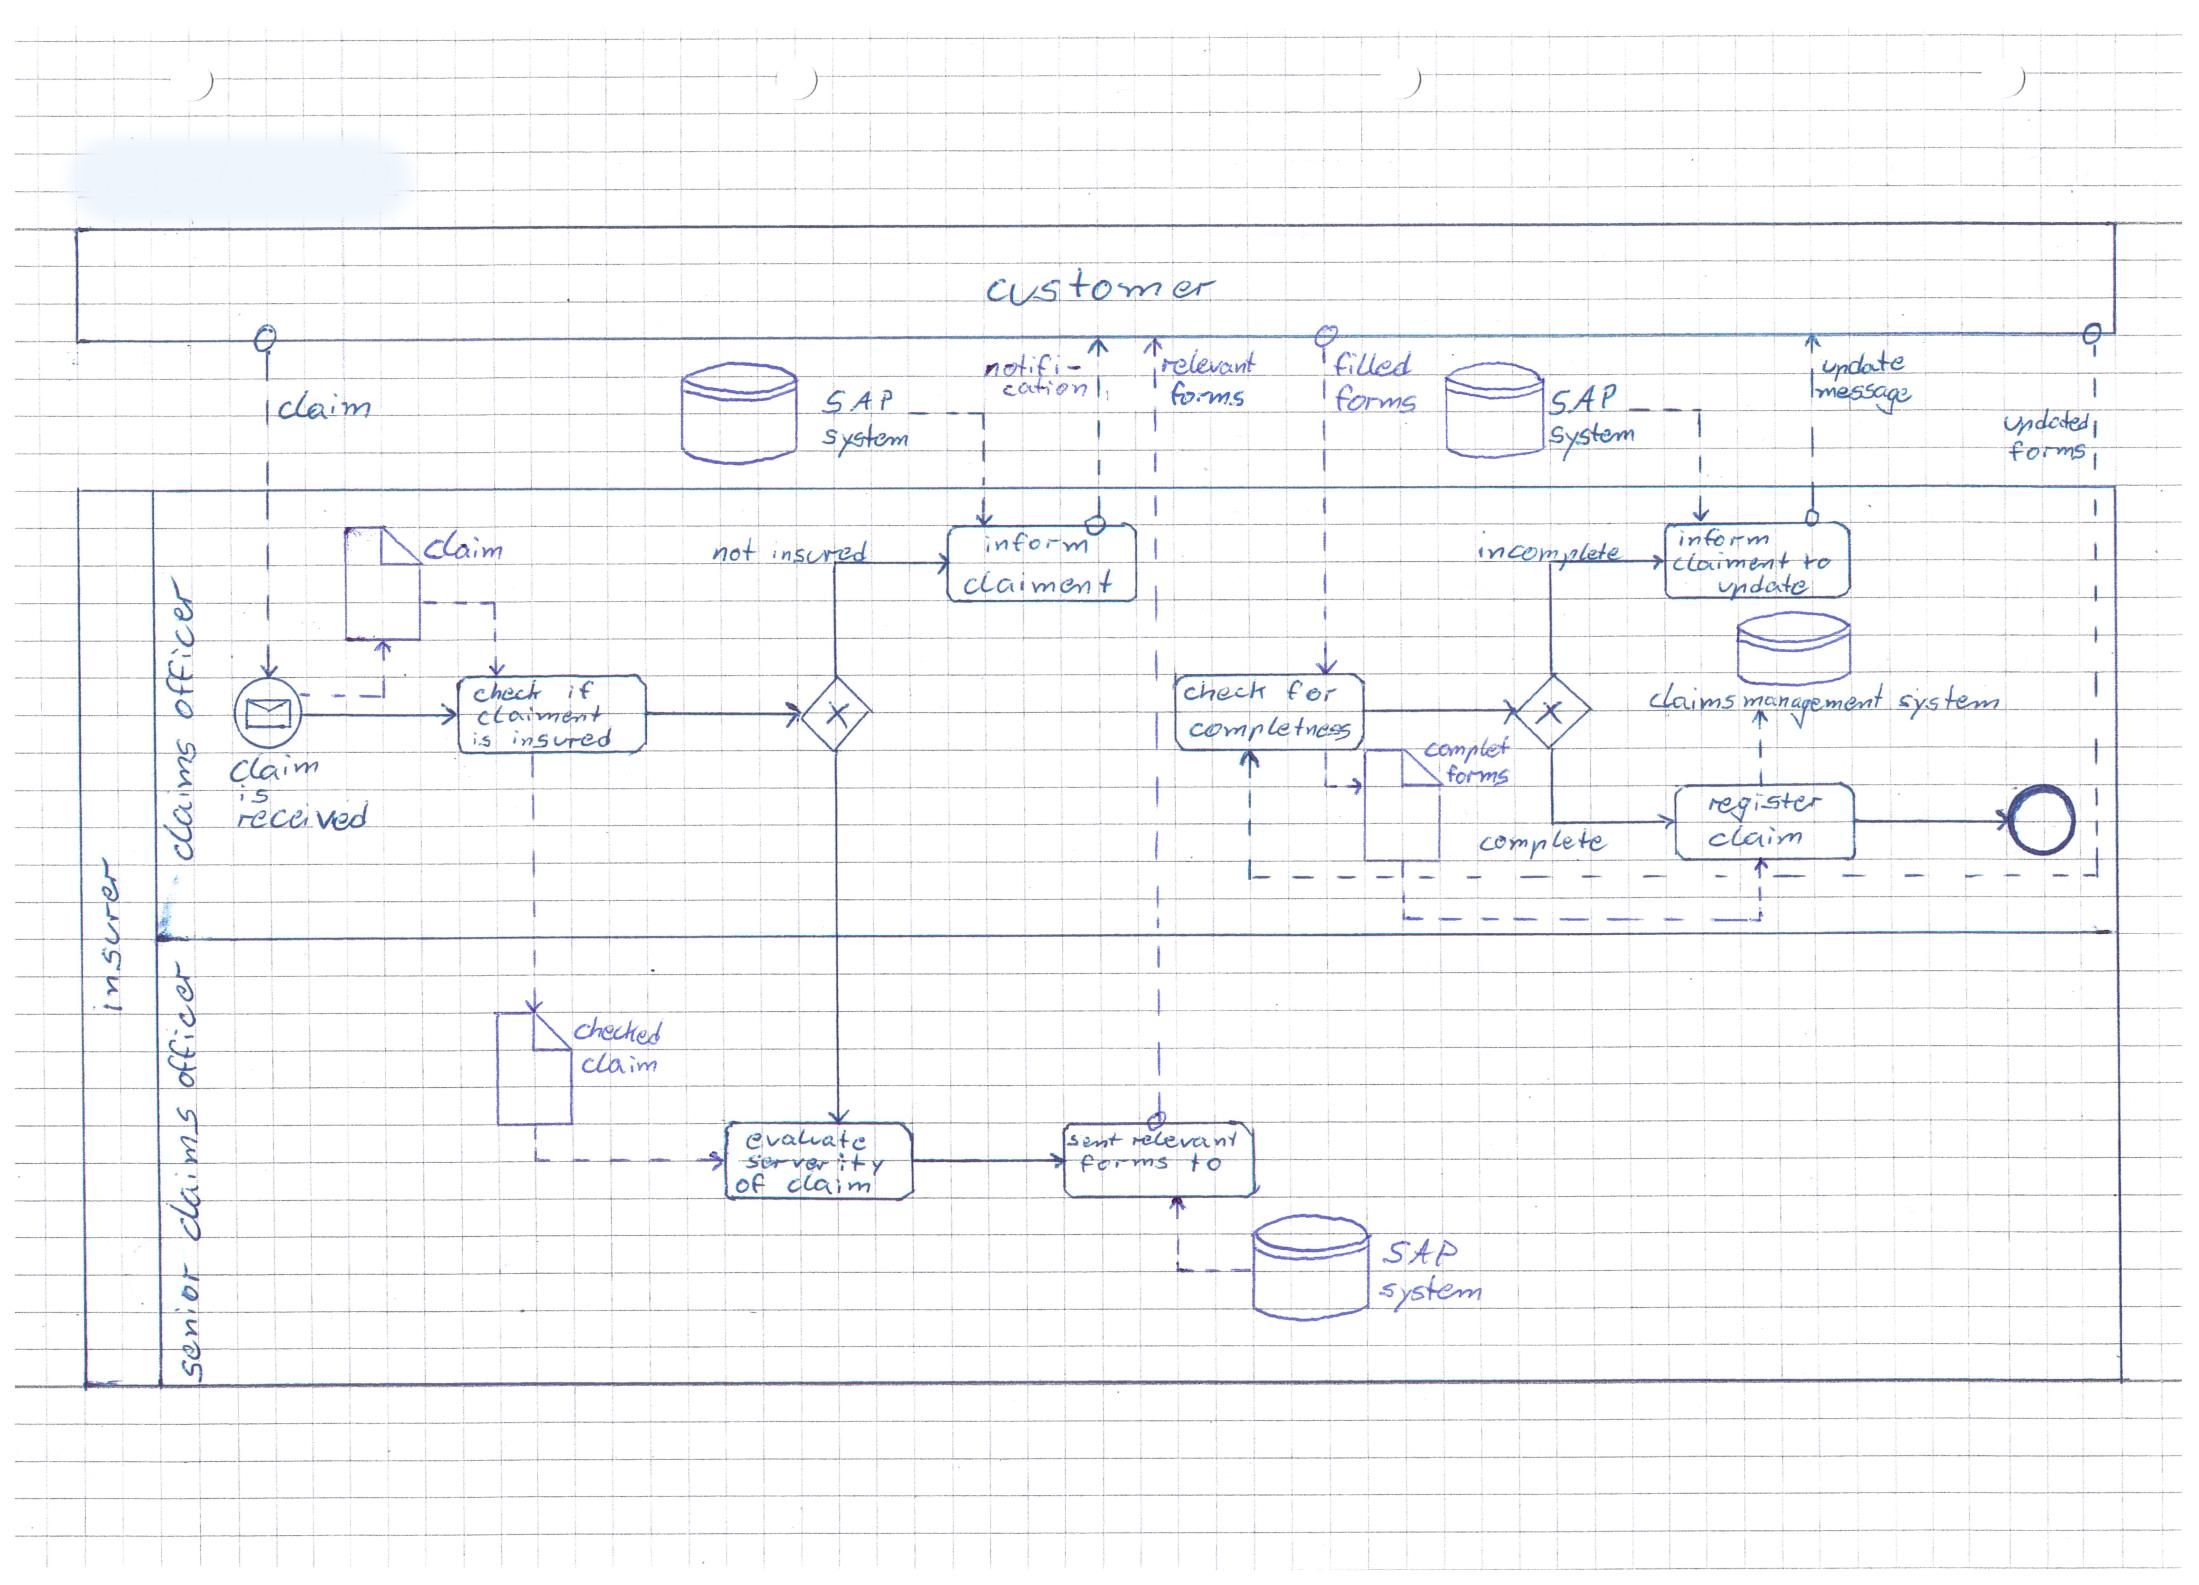Forms: (1082, 1155, 1176, 1173)
SAP: (1386, 1233, 1458, 1271), (1550, 383, 1620, 417), (828, 388, 895, 418)
System: (823, 424, 915, 454), (1549, 424, 1639, 453)
cation: (1002, 377, 1088, 401)
check: (1181, 676, 1270, 704), (475, 680, 546, 704)
checked: (562, 1003, 668, 1061)
claim: (271, 391, 374, 427), (577, 1049, 662, 1083), (230, 757, 319, 787), (427, 531, 504, 565), (1712, 825, 1805, 851), (787, 1173, 872, 1197)
claiment: (958, 570, 1113, 603), (1673, 548, 1799, 574), (476, 704, 604, 728)
claims: (164, 1103, 207, 1242), (160, 724, 200, 861), (1648, 681, 1741, 717)
complet: (1424, 734, 1514, 763)
complete: (1477, 828, 1608, 859)
completness: (1188, 717, 1354, 745)
customer: (987, 268, 1217, 311)
evaluate: (748, 1129, 869, 1155)
filled: (1327, 331, 1419, 384)
for: (1282, 676, 1340, 711)
forms: (1332, 379, 1420, 418), (1441, 762, 1513, 792), (1168, 383, 1246, 408), (2009, 441, 2090, 465)
if: (562, 680, 596, 702)
incomplete: (1477, 540, 1629, 569)
inform: (978, 531, 1094, 560), (1675, 529, 1770, 548)
insured: (761, 540, 869, 572), (509, 728, 615, 750)
insurer: (94, 856, 126, 1020)
is: (236, 787, 270, 810), (470, 731, 499, 750)
management: (1747, 687, 1888, 721)
message: (1825, 379, 1910, 405)
not: (714, 540, 760, 570)
notifi-: (983, 354, 1088, 383)
of: (736, 1173, 777, 1196)
officer: (162, 948, 201, 1091), (160, 579, 198, 717)
received: (236, 803, 372, 832)
register: (1704, 791, 1827, 820)
relevant: (1152, 348, 1265, 388), (1129, 1129, 1239, 1149)
senior: (169, 1250, 210, 1380)
sent: (1069, 1131, 1127, 1149)
serverity: (750, 1153, 888, 1177)
system: (1893, 683, 2003, 721), (1378, 1274, 1484, 1312)
to: (1188, 1153, 1222, 1173), (1803, 553, 1832, 574)
update: (1822, 347, 1909, 381), (1721, 576, 1810, 598)
updated: (2008, 412, 2093, 437)
